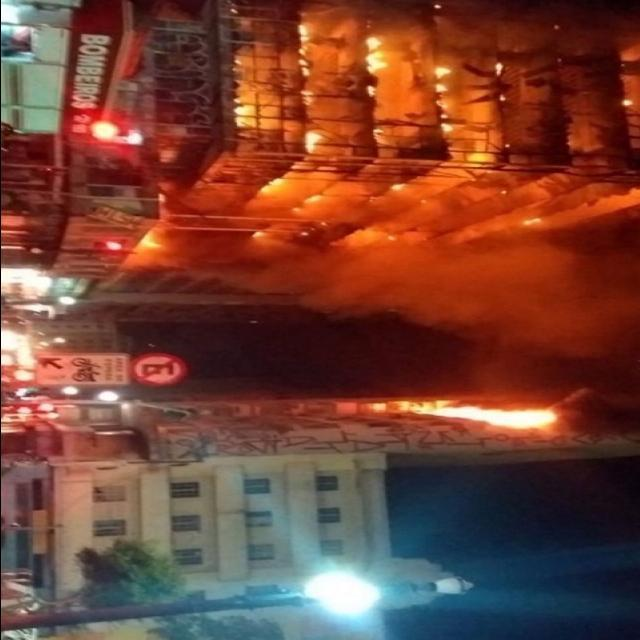Fire: (192, 6, 638, 260), (384, 371, 574, 449)
